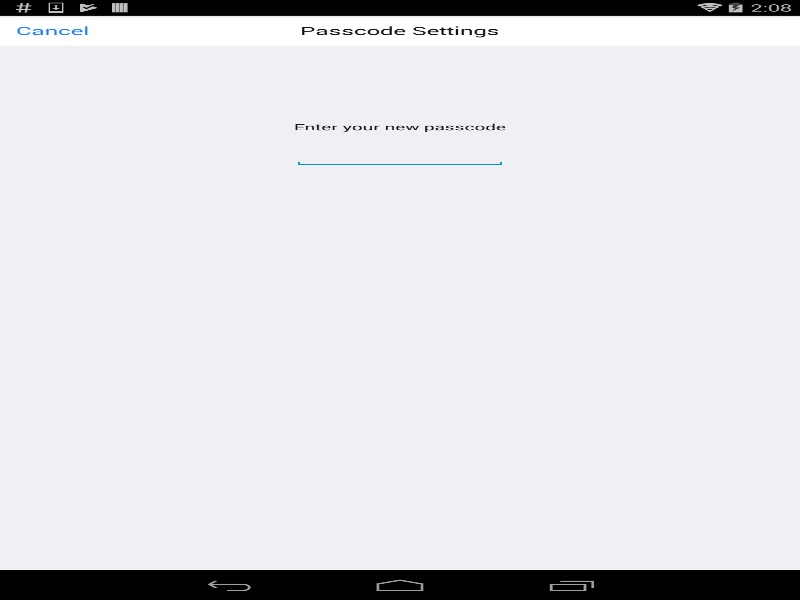Input: (293, 139, 506, 166)
